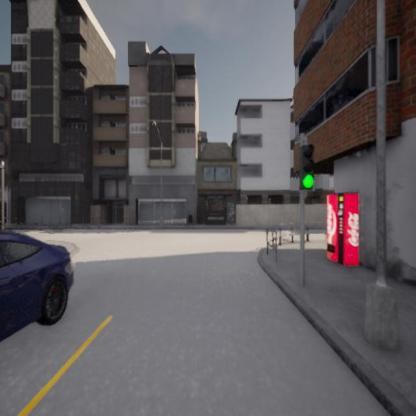traffic_light_green: (298, 144, 314, 188)
